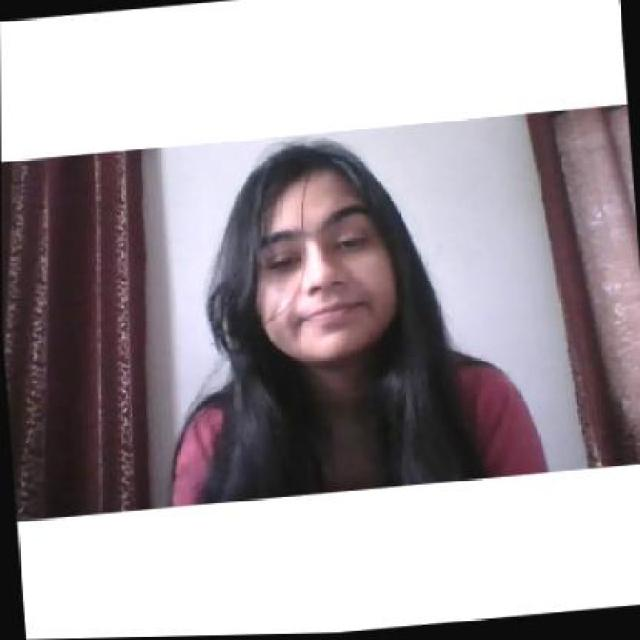attentif: (246, 142, 399, 368)
